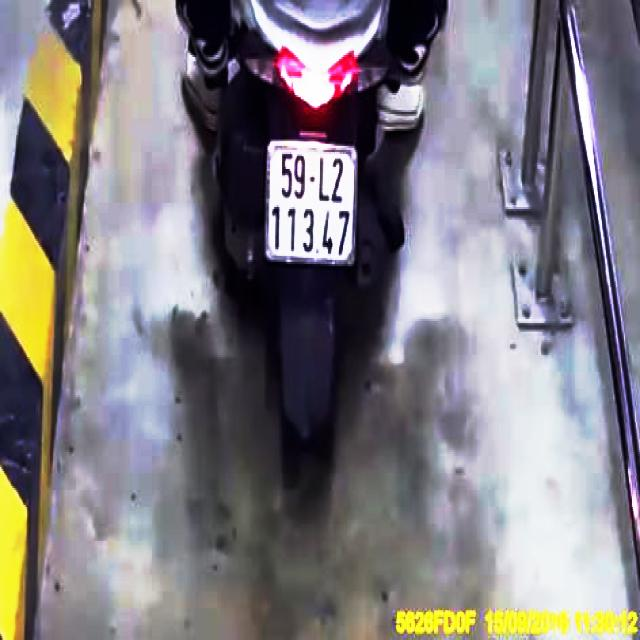license_plate: (266, 143, 357, 266)
